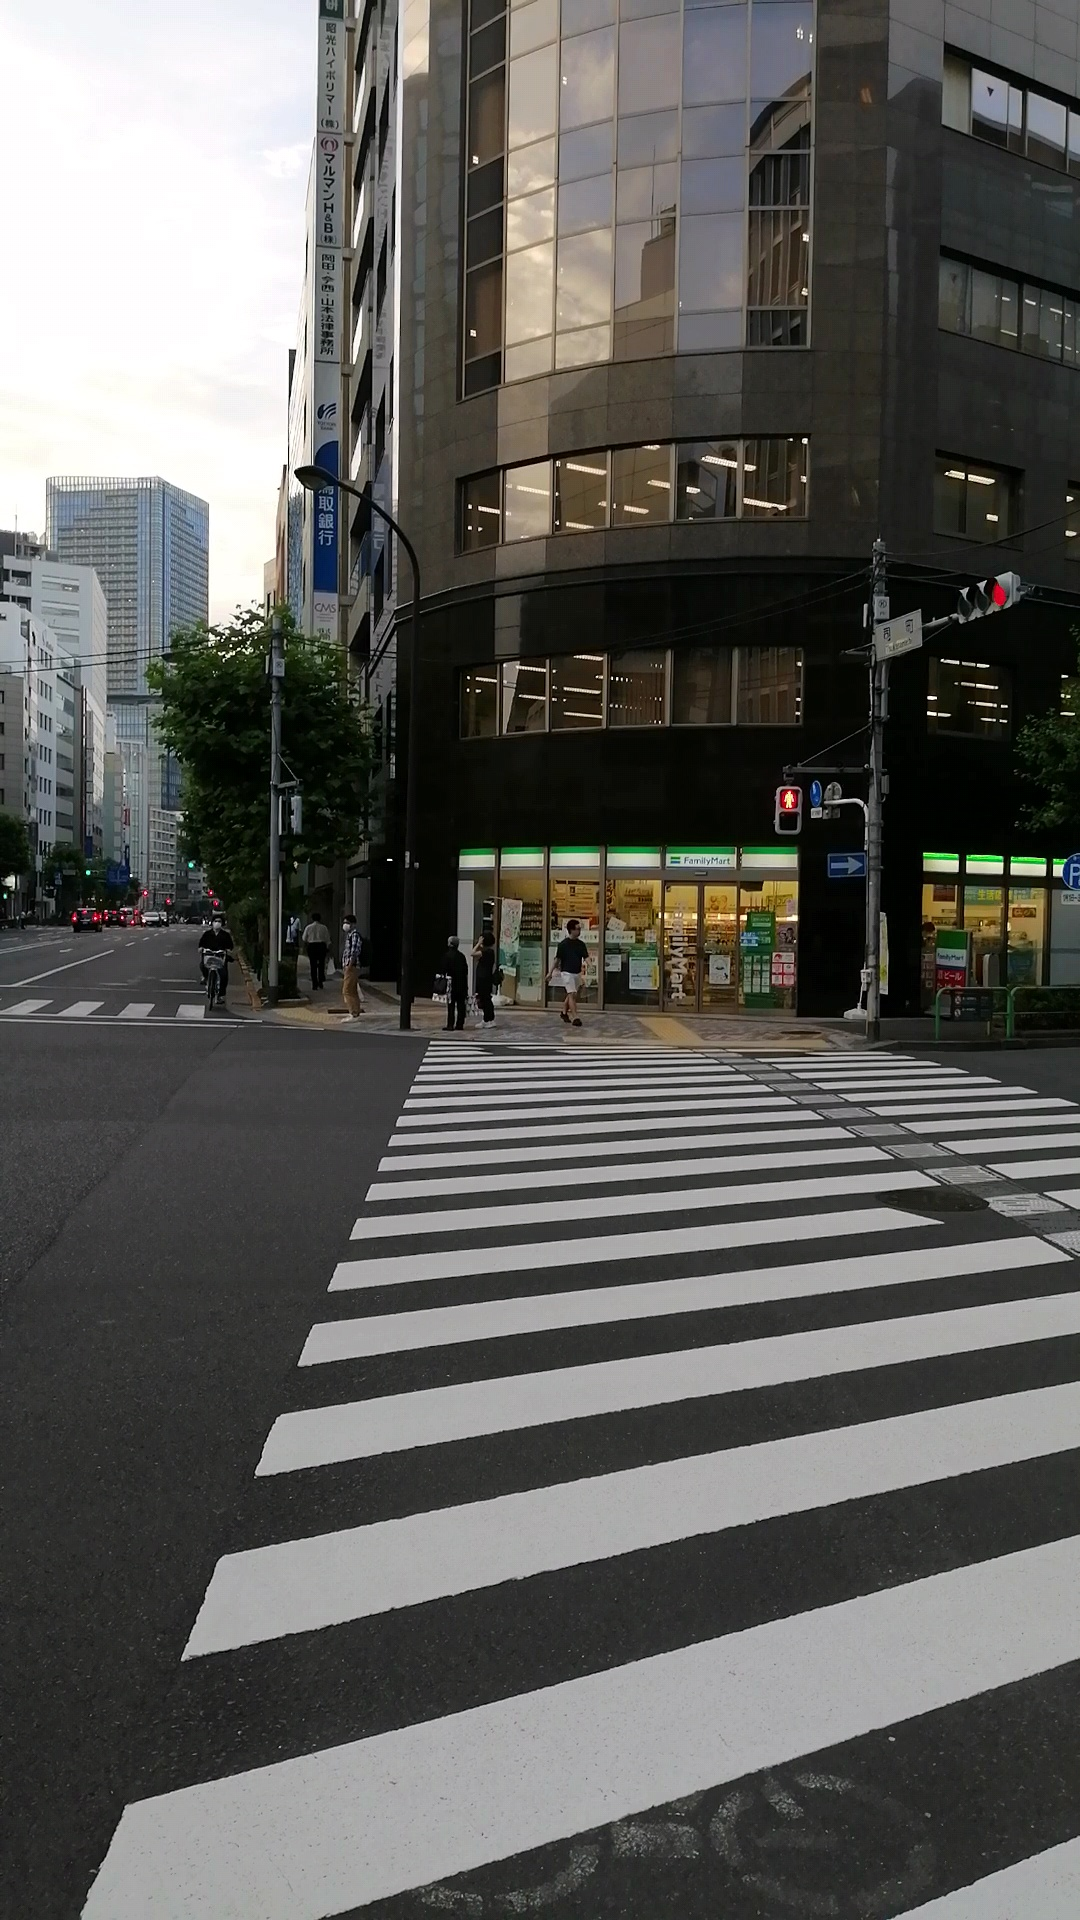red: (773, 785, 803, 835)
